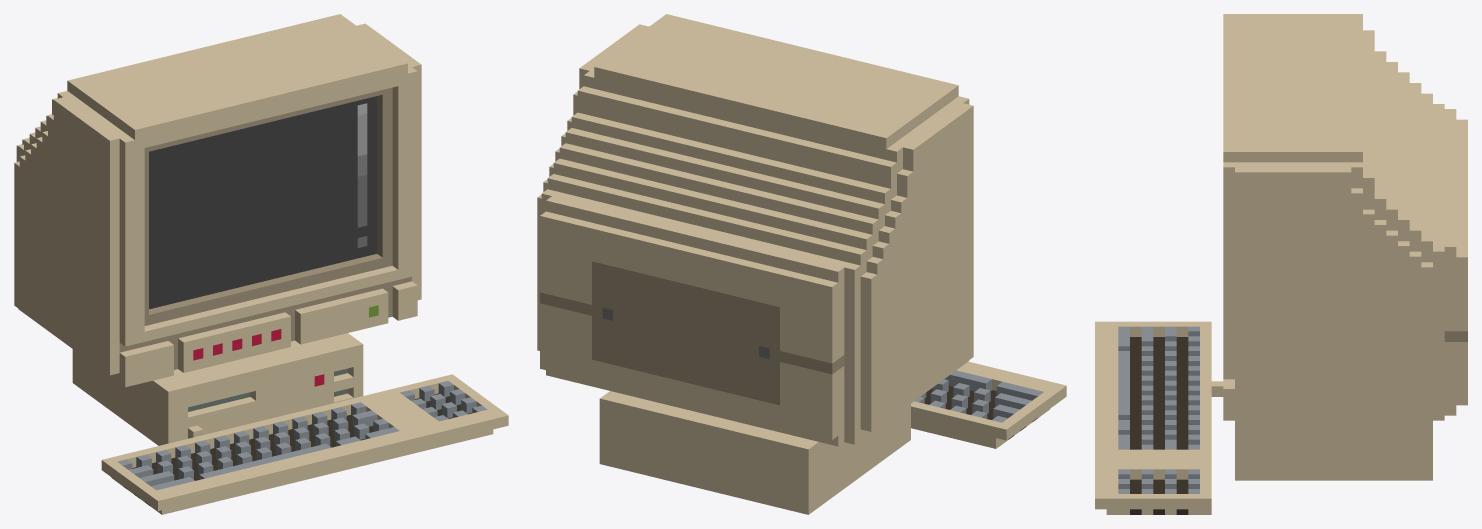
Rendered from computer.obj.
The picture shows the model from 3 angles, left to right: view 1: azimuth 30°, elevation 25°; view 2: azimuth 150°, elevation 25°; view 3: azimuth 270°, elevation 25°; orthographic projection. The views are drawn at different scales.
Parts seen in each view (by area): view 1: Computer; view 2: Computer; view 3: Computer.
Boxes of the visible parts, x1=… form: Computer: x1=14, y1=14, x2=508, y2=514; Computer: x1=537, y1=14, x2=1066, y2=514; Computer: x1=1095, y1=14, x2=1467, y2=514.
Size of the model in its own units: 36 by 33 by 32.
1 material, 1 textured.
